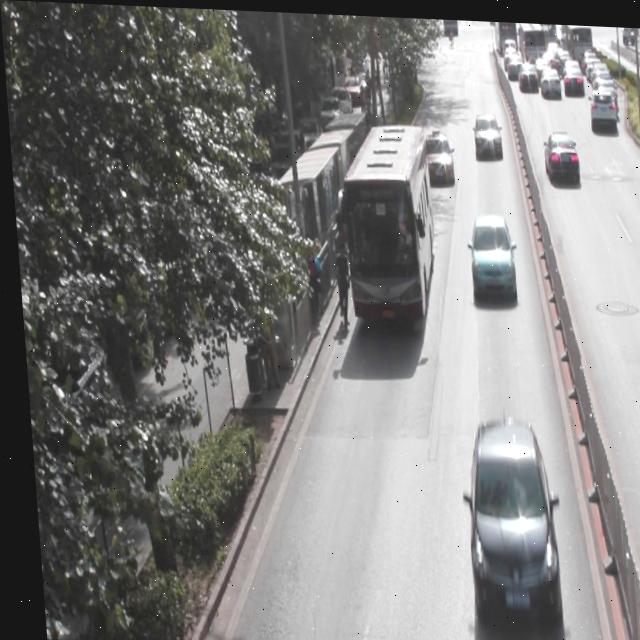car: (454, 413, 552, 614), (463, 208, 512, 291), (539, 124, 576, 178), (420, 127, 452, 178), (469, 107, 499, 152)
van: (337, 117, 433, 318)
